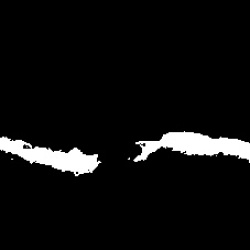crack: (122, 132, 247, 164), (3, 136, 103, 174)
